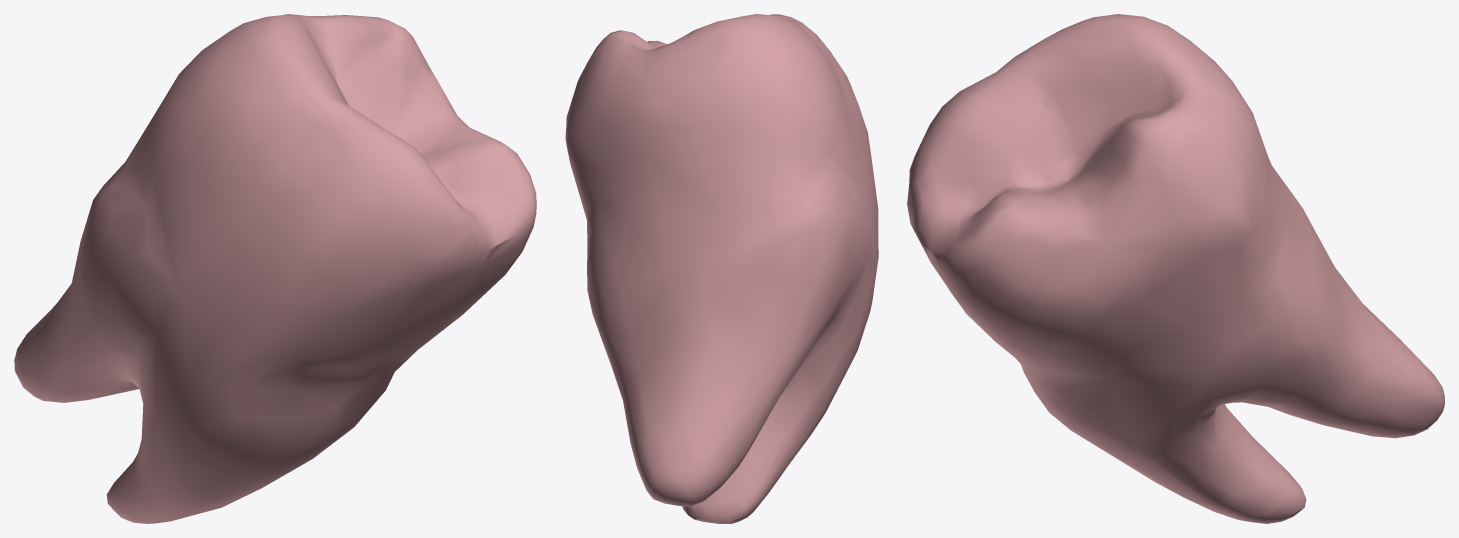
The model's file is fma55706_mm821m.glb.
3 views of the same model, side by side, from view 1: azimuth 30°, elevation 25°; view 2: azimuth 150°, elevation 25°; view 3: azimuth 270°, elevation 25° (orthographic). The views are drawn at different scales.
Parts seen in each view (by area): view 1: FMA55706_MM821M; view 2: FMA55706_MM821M; view 3: FMA55706_MM821M.
Boxes of the visible parts, x1,y1,x2,y2 form: FMA55706_MM821M: [14, 14, 536, 523]; FMA55706_MM821M: [565, 14, 878, 523]; FMA55706_MM821M: [907, 14, 1444, 523].
Bounding box in the file's own units: 0.0112 × 0.0165 × 0.0155.
